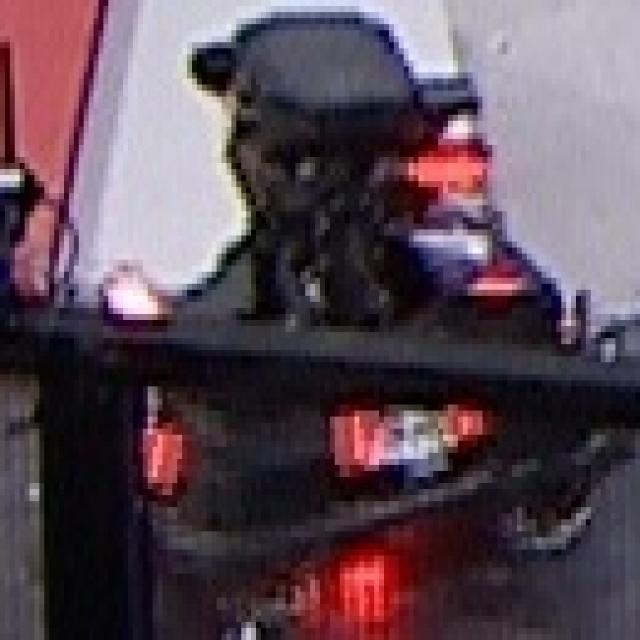R4: (389, 187, 527, 302), (335, 399, 482, 489)
